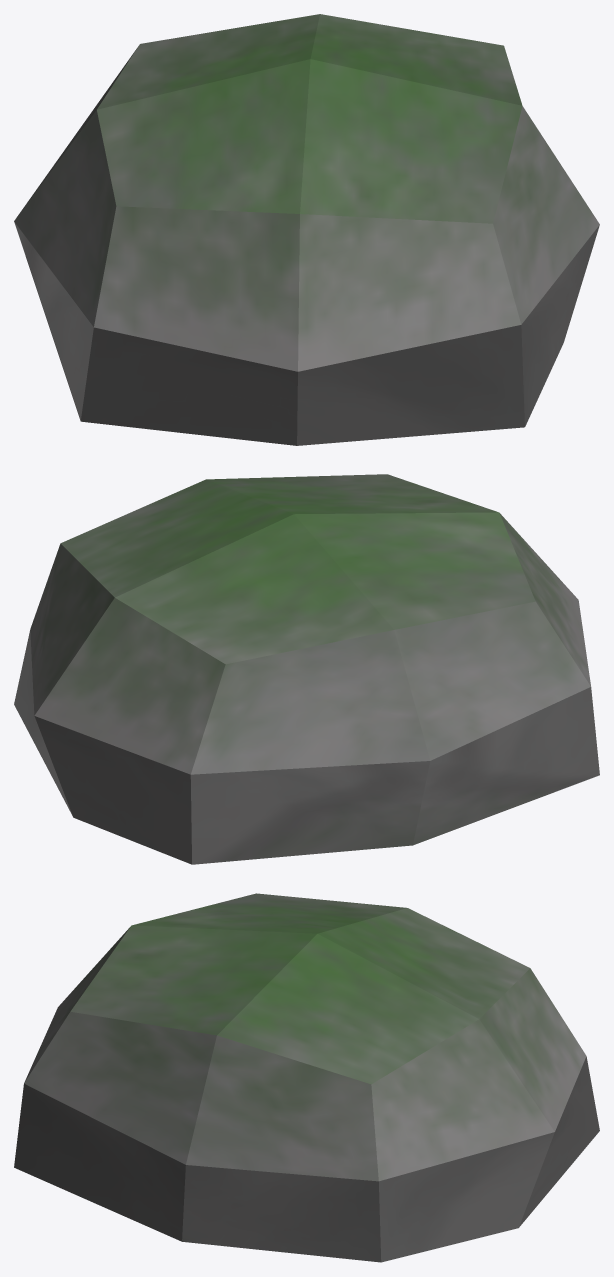
The model's file is mossed-stone-008-61.glb.
3 views of the same model, one above another, from view 1: azimuth 30°, elevation 25°; view 2: azimuth 150°, elevation 25°; view 3: azimuth 270°, elevation 25° (orthographic). The views are drawn at different scales.
Visible parts, largest first — view 1: mossed_stone.008_61; view 2: mossed_stone.008_61; view 3: mossed_stone.008_61.
Part boxes in pixels (left/top/right/bottom): mossed_stone.008_61: left=14, top=14, right=599, bottom=445; mossed_stone.008_61: left=14, top=474, right=599, bottom=864; mossed_stone.008_61: left=14, top=893, right=599, bottom=1262.
Bounding box in the file's own units: 9.95 × 4.8 × 10.54.
1 material, 1 textured.
